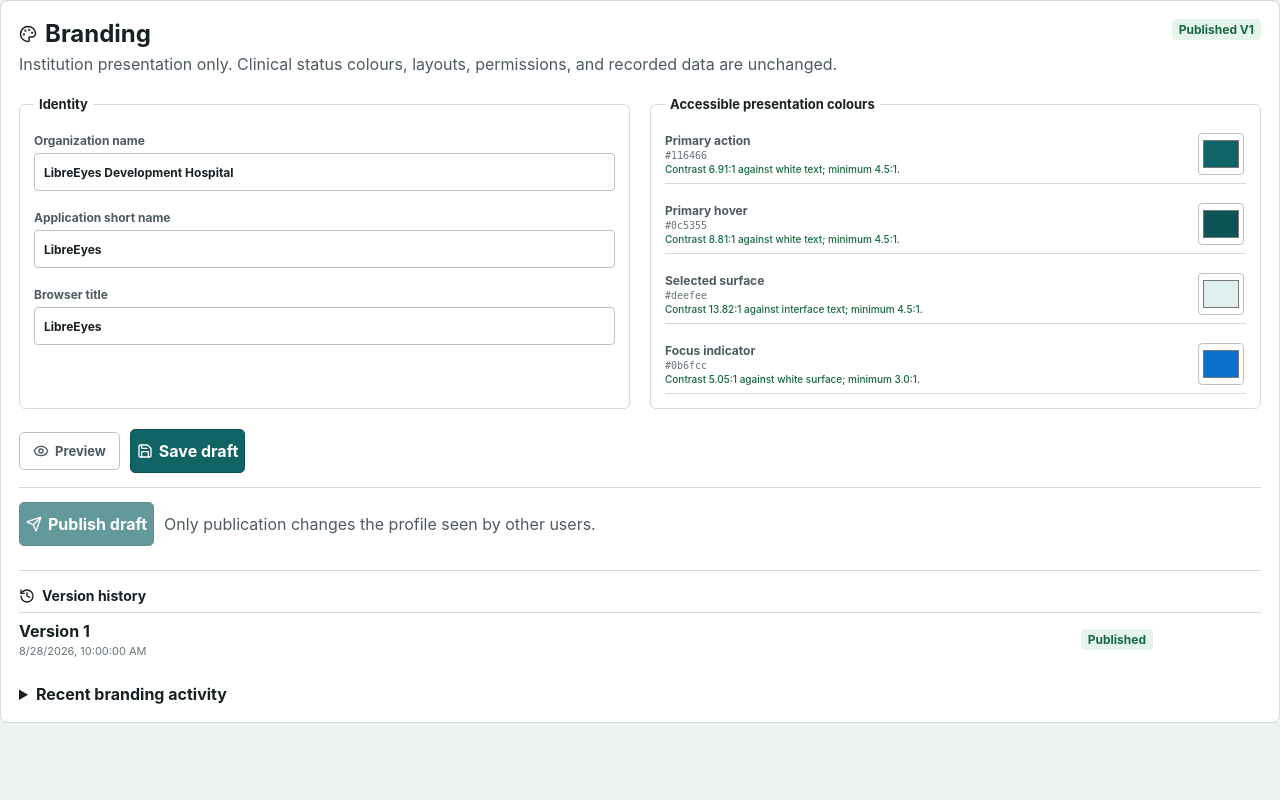
BrandingAdminPanel › saves a versioned draft and keeps publication explicit
Replace the text in the field labelled "Application short name" with "Velox EyeCare": (324,249) [34,230,615,268]
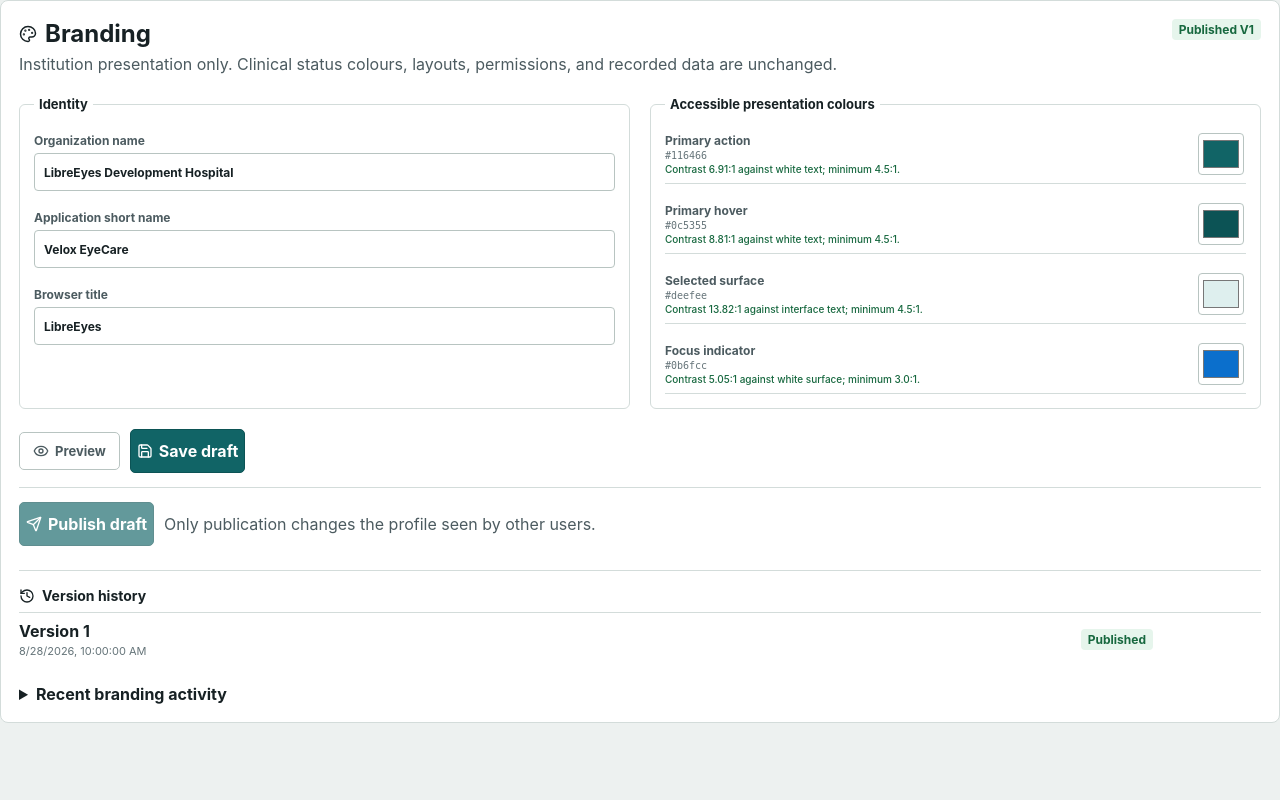
Click the button "Save draft": (188,451) [130,429,245,473]
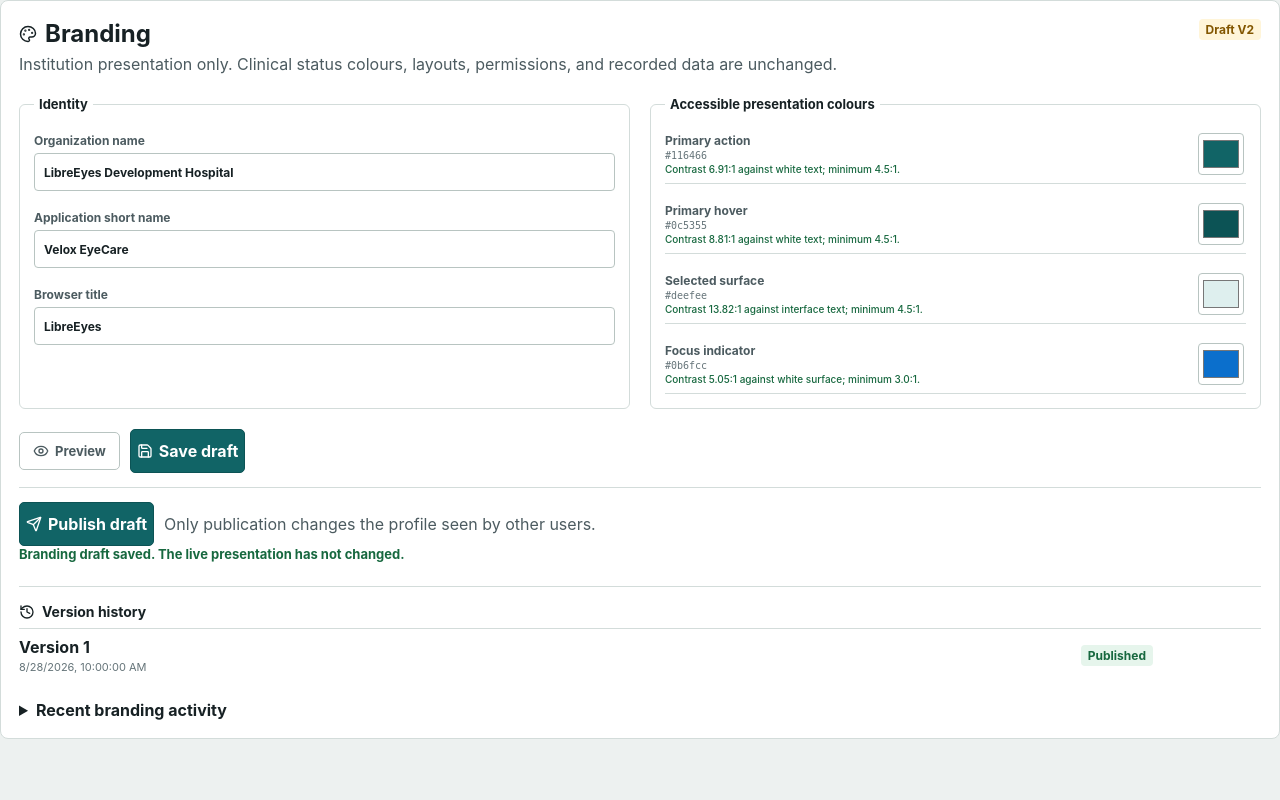
Now the message shows "live presentation has not changed", box [19,546,405,562]
